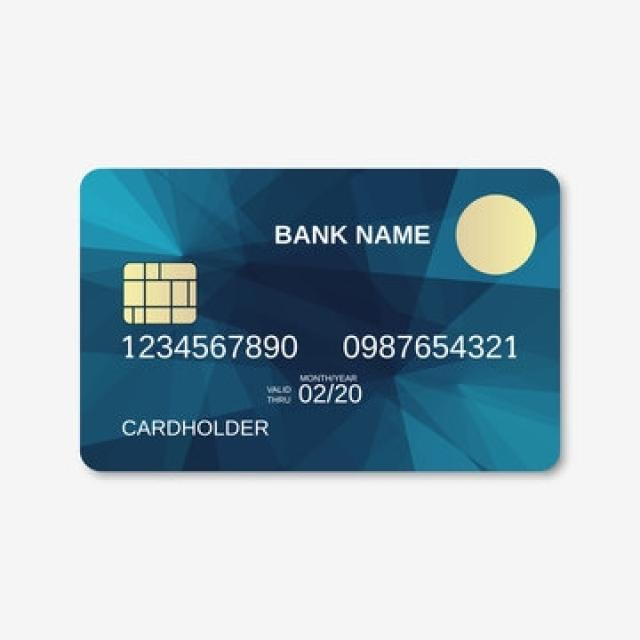payment_card: (78, 166, 562, 473)
